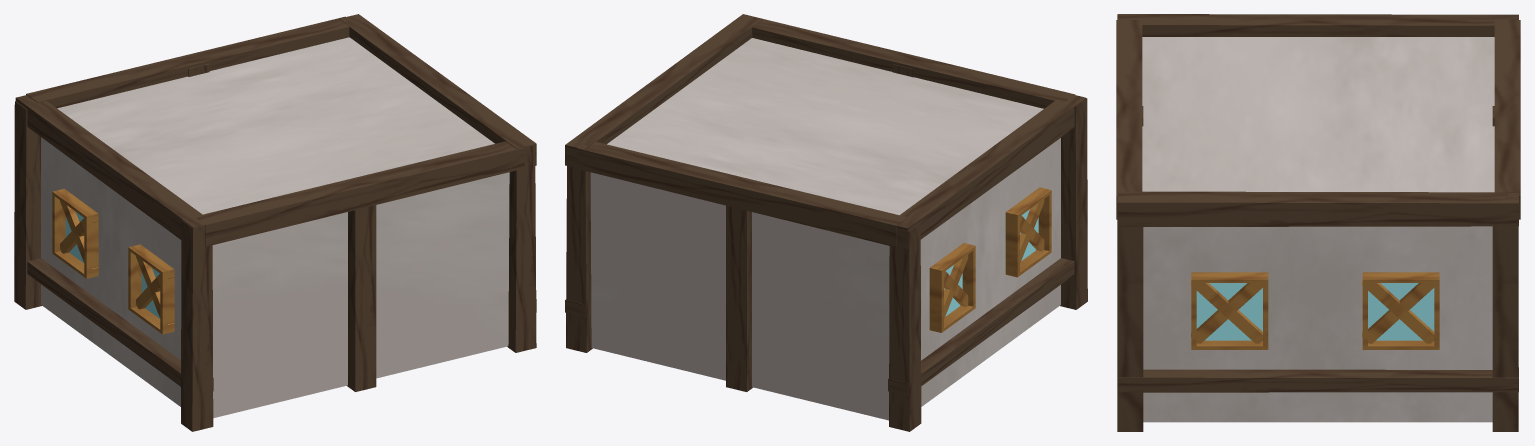
The model's file is Apartment1.fbx.
3 views of the same model, side by side, from view 1: azimuth 30°, elevation 25°; view 2: azimuth 150°, elevation 25°; view 3: azimuth 270°, elevation 25° (orthographic). The views are drawn at different scales.
Parts seen in each view (by area): view 1: polySurface1249; view 2: polySurface1249; view 3: polySurface1249.
Part boxes in pixels (left/top/right/bottom): polySurface1249: left=14, top=14, right=536, bottom=431; polySurface1249: left=565, top=14, right=1087, bottom=431; polySurface1249: left=1116, top=14, right=1520, bottom=431.
Bounding box in the file's own units: 1.34 × 0.7569 × 1.21.
